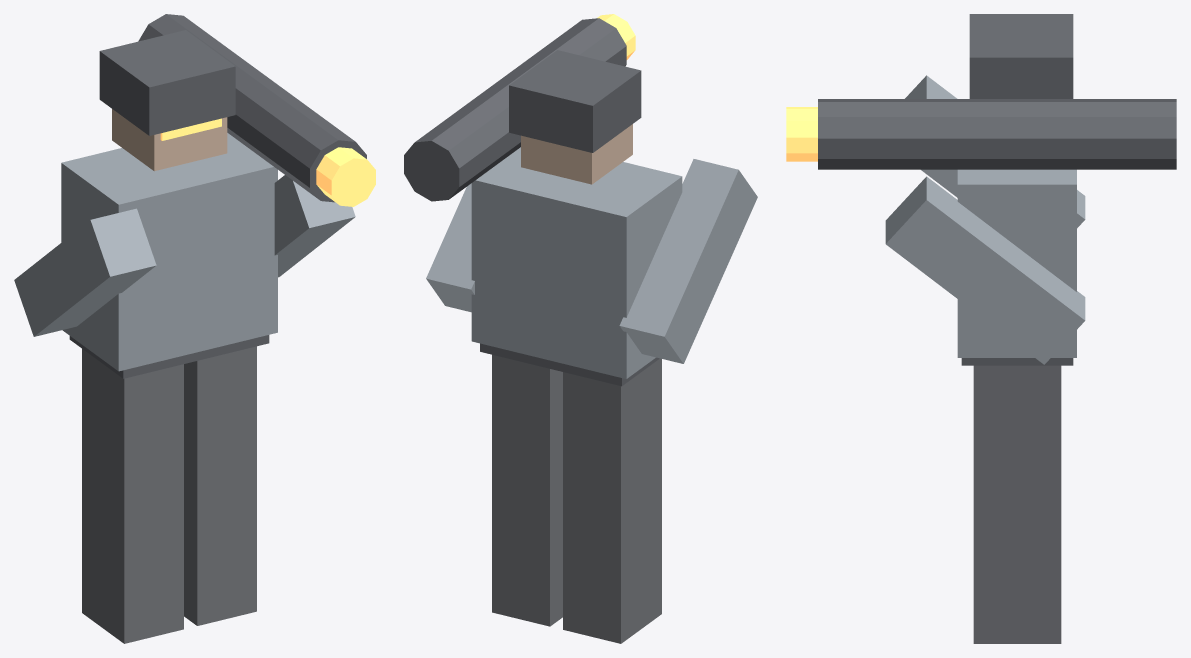
The model's file is Unit_RocketSquad.fbx.
The picture shows the model from 3 angles, left to right: view 1: azimuth 30°, elevation 25°; view 2: azimuth 150°, elevation 25°; view 3: azimuth 270°, elevation 25°; orthographic projection. The views are drawn at different scales.
Parts seen in each view (by area): view 1: Body.001; view 2: Body.001; view 3: Body.001.
Boxes of the visible parts, x1=… form: Body.001: x1=14, y1=14, x2=375, y2=643; Body.001: x1=404, y1=14, x2=757, y2=643; Body.001: x1=786, y1=14, x2=1176, y2=643.
Size of the model in its own units: 0.74 by 1.59 by 0.98.
